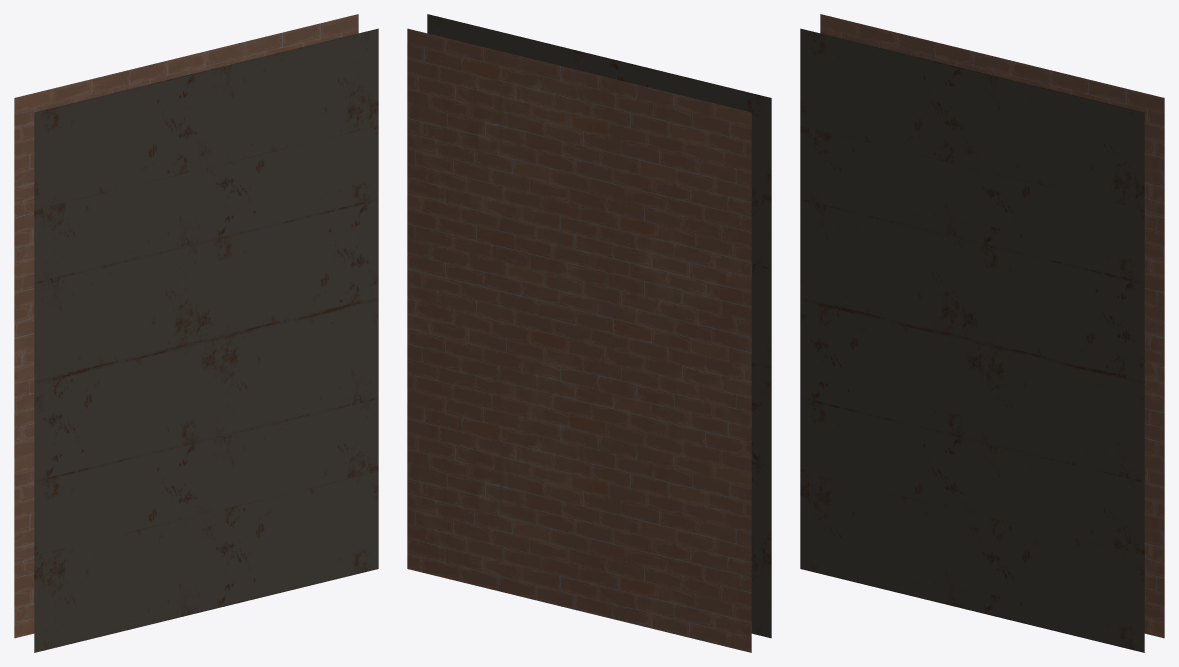
Rendered from Metal_Plain_3.gltf.
The picture shows the model from 3 angles, left to right: view 1: azimuth 30°, elevation 25°; view 2: azimuth 150°, elevation 25°; view 3: azimuth 330°, elevation 25°; orthographic projection.
Parts seen in each view (by area): view 1: Metal_Plain_3; view 2: Metal_Plain_3; view 3: Metal_Plain_3.
Boxes of the visible parts, x1,y1,x2,y2 form: Metal_Plain_3: [14, 14, 378, 652]; Metal_Plain_3: [407, 14, 771, 652]; Metal_Plain_3: [800, 14, 1164, 652].
Bounding box in the file's own units: 2 × 3 × 0.2.
Materials: 2 (2 with a texture image).
